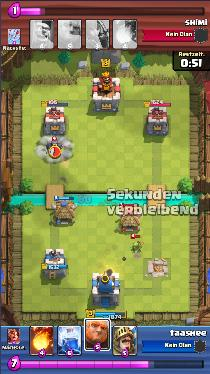ally_goblin_hut: (50, 200, 78, 226)
enemy_goblin_hut: (113, 206, 145, 232)
enemy_mini_pekka: (46, 140, 63, 154)
enemy_spear_goblin: (130, 241, 143, 253)
